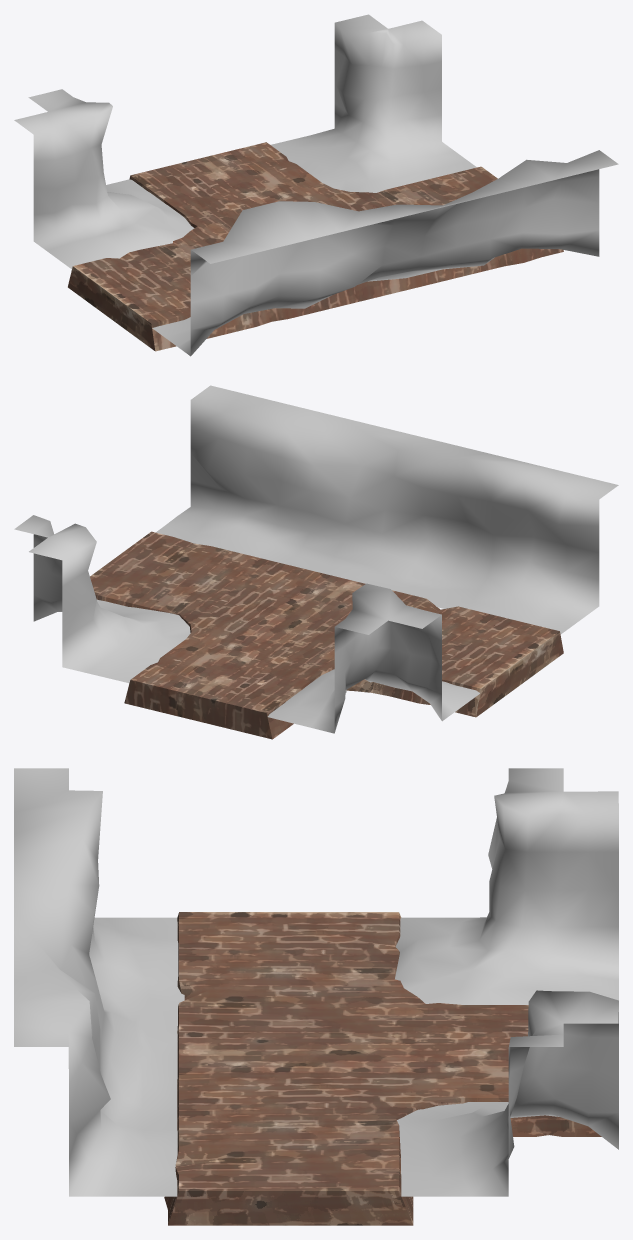
Rendered from tile_natural4.fbx.
The picture shows the model from 3 angles, top to bottom: view 1: azimuth 30°, elevation 25°; view 2: azimuth 150°, elevation 25°; view 3: azimuth 270°, elevation 25°; orthographic projection. The views are drawn at different scales.
Parts seen in each view (by area): view 1: tilenatural4; view 2: tilenatural4; view 3: tilenatural4.
Part boxes in pixels (left/top/right/bottom): tilenatural4: left=14, top=14, right=618, bottom=356; tilenatural4: left=14, top=385, right=618, bottom=739; tilenatural4: left=14, top=768, right=618, bottom=1225.
Size of the model in its own units: 6004 by 5502 by 2062.
